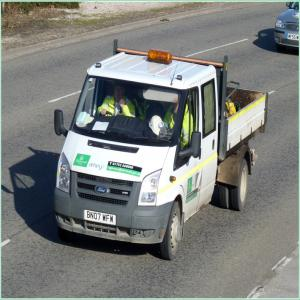Vehicle-registration-plate: (85, 208, 116, 226), (287, 34, 300, 42)
